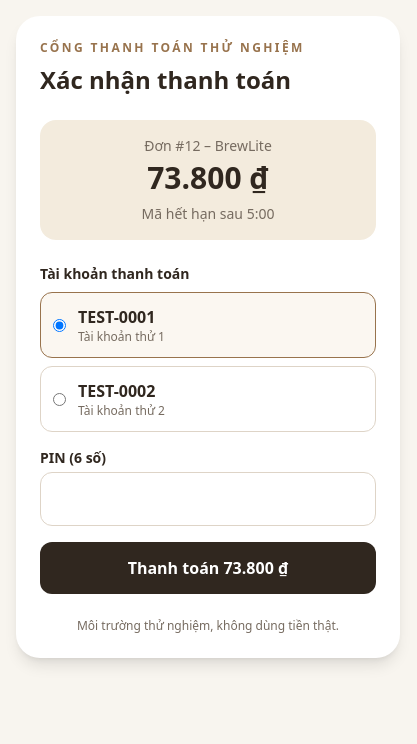
Trang xác nhận QR trên điện thoại (FR-18) › PIN chưa đủ 6 số thì báo lỗi, không gọi API xác nhận
The width and height of the screenshot is (417, 744).
Type "123" into the password field labelled "PIN (6 số)" at point(208, 499), box [40,472,376,526]
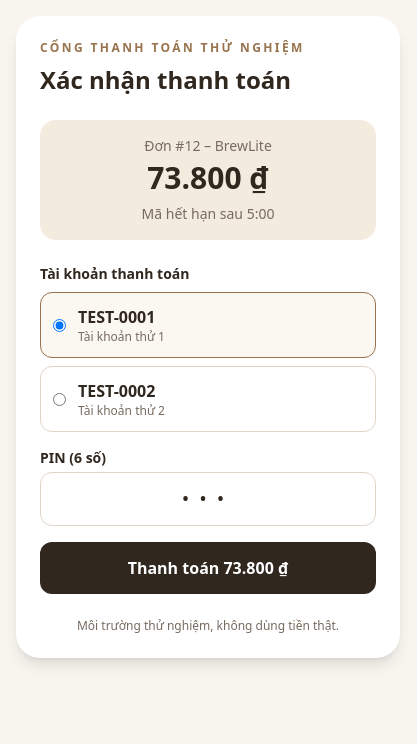
Click the button "Thanh toán 73.800 ₫" at point(208, 568), box [40,542,376,594]
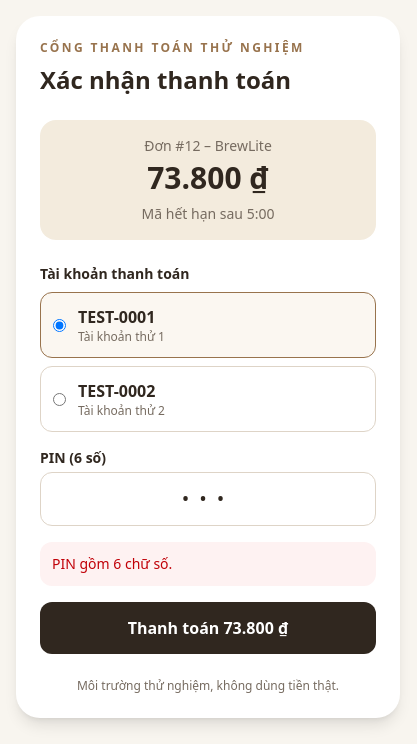
Expected: the message reads "PIN gồm 6 chữ số.", [52,554,172,573]
